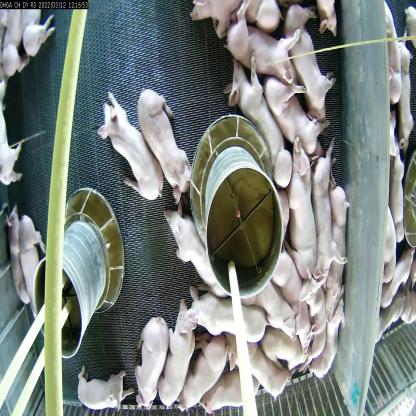Pig: (91, 82, 159, 222), (216, 53, 289, 177), (127, 74, 191, 194), (172, 196, 228, 308), (282, 130, 327, 267), (227, 16, 305, 88), (171, 328, 235, 415), (185, 278, 263, 342), (12, 204, 51, 320), (312, 267, 346, 399), (316, 155, 352, 278), (162, 290, 197, 412), (266, 82, 327, 150), (285, 30, 331, 114), (243, 256, 291, 333), (0, 198, 30, 304), (134, 315, 168, 407), (76, 356, 135, 406)
